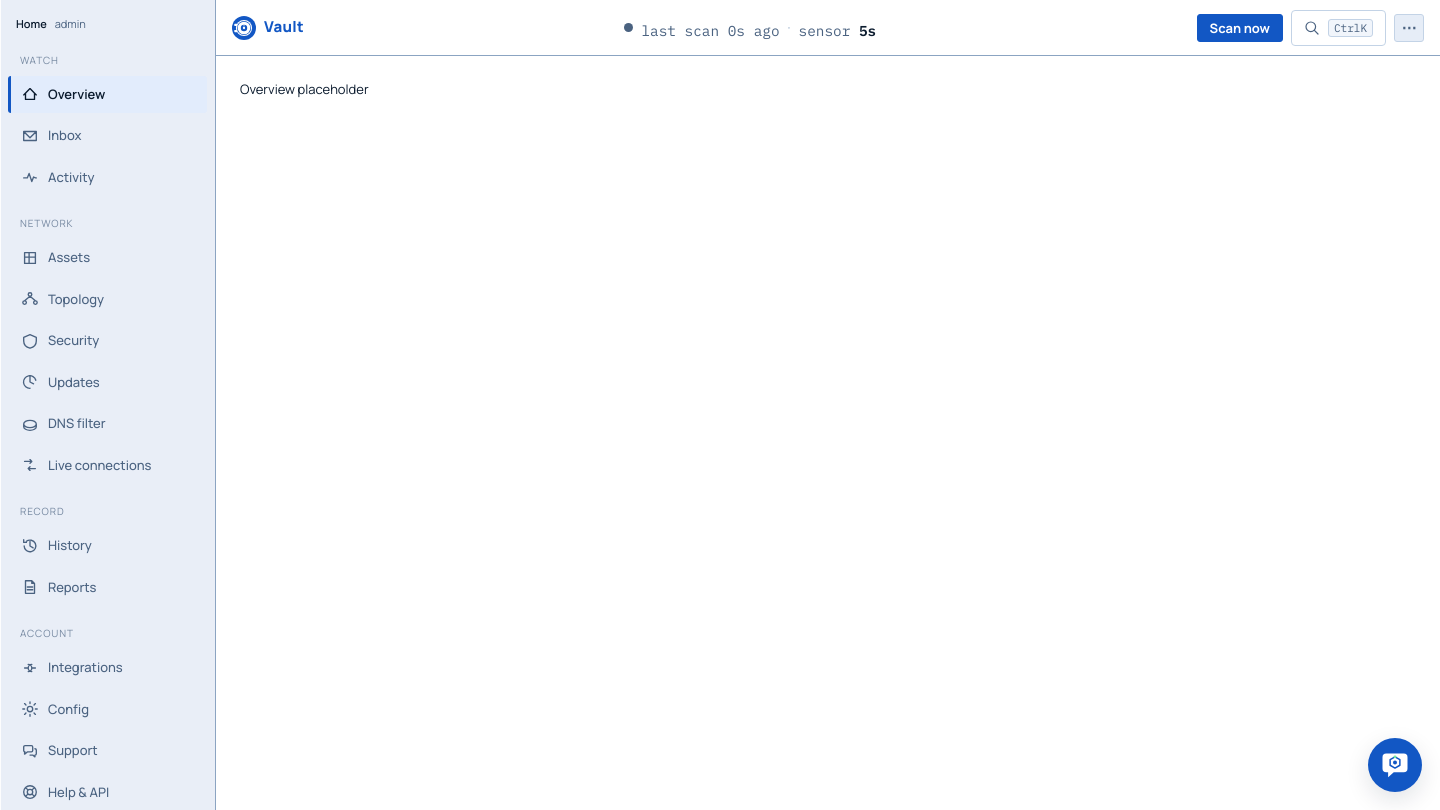
Shell › toggles the chat popover from the floating button, captioned with the provider ladder
The width and height of the screenshot is (1440, 810).
Expected: the text "Overview placeholder" is shown, [240, 80, 369, 98]
Click the button named "toggle vault chat" at (1395, 765), box [1368, 738, 1422, 792]
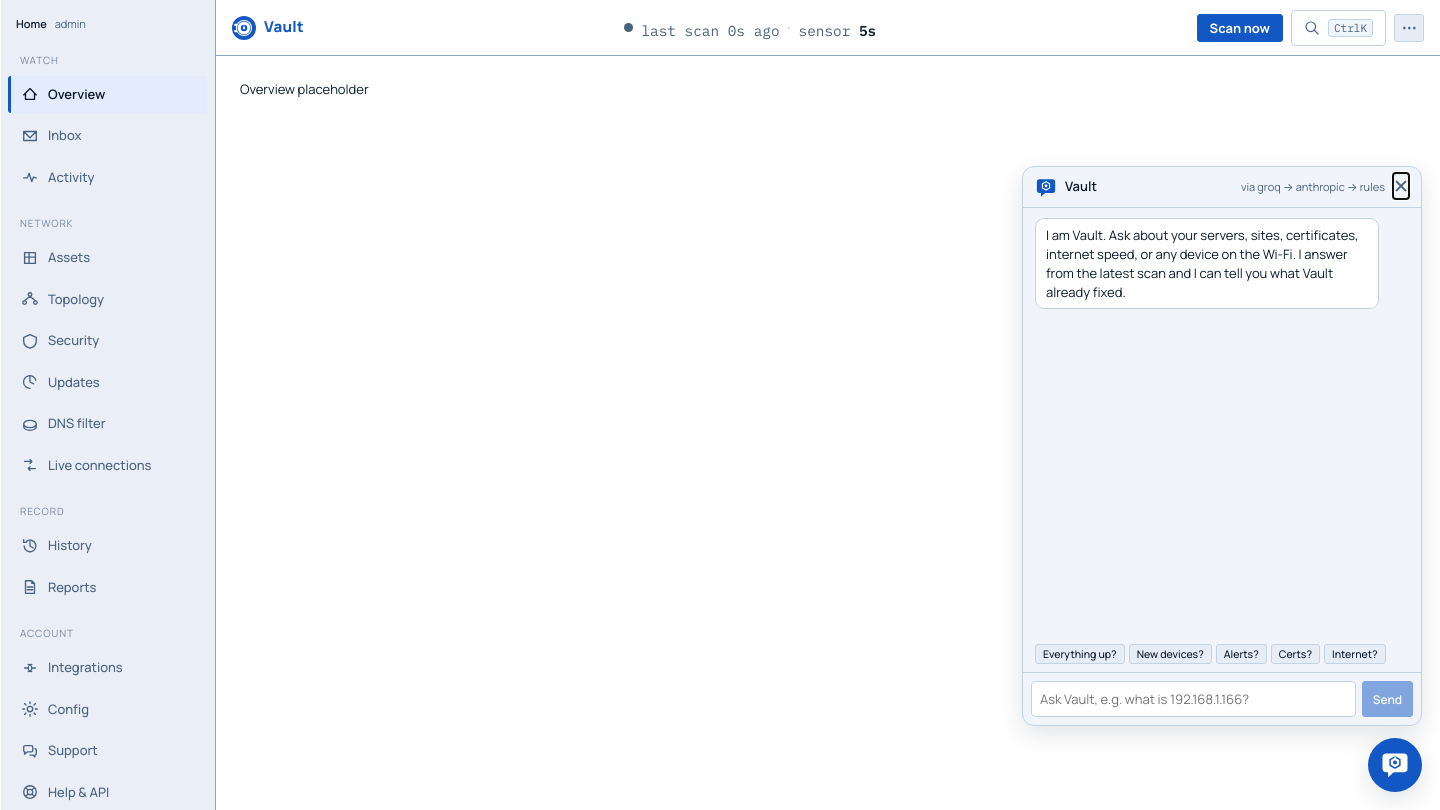
Expected: the dialog named "Vault chat" is shown, [1022, 166, 1422, 726]
Expected: the text "via groq → anthropic → rules" is shown, [1241, 179, 1385, 195]
Expected: the text box labelled "Ask Vault, e.g. what is 192.168.1.166?" is enabled, [1031, 681, 1356, 717]
